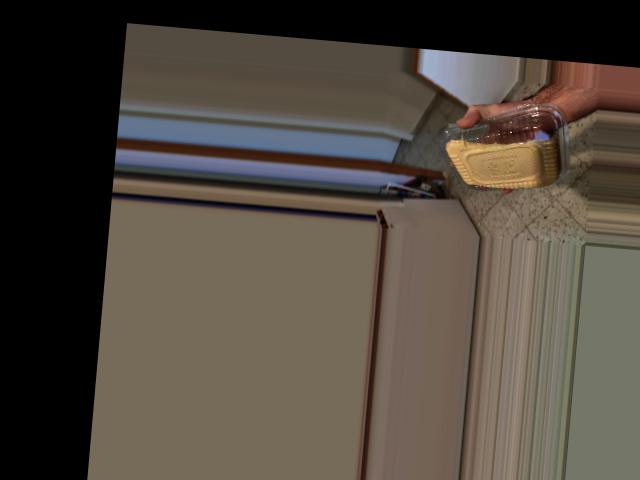cheese: (468, 122, 579, 184)
